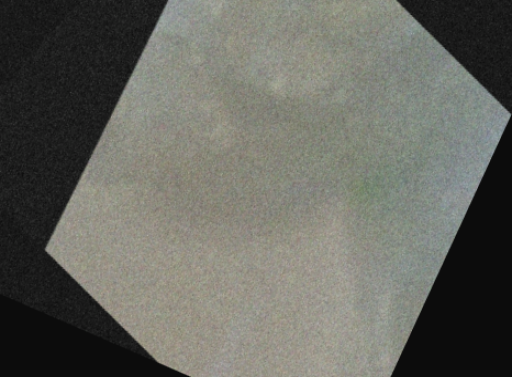vinyl_s: (34, 1, 512, 375)
